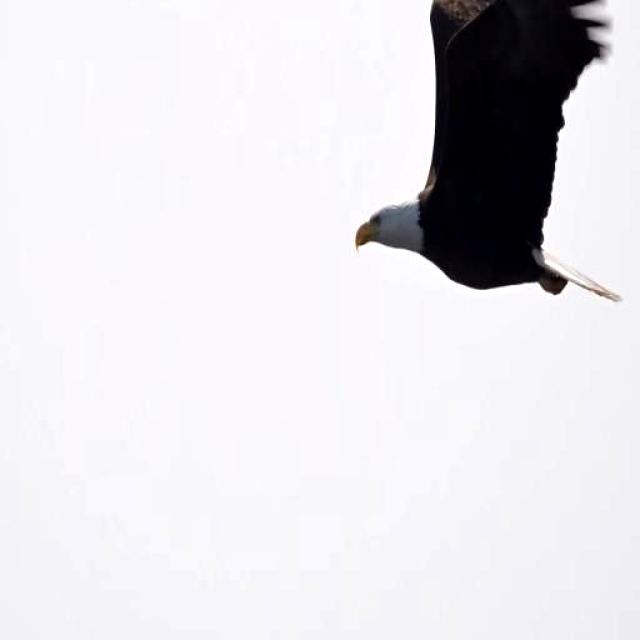airplane: (338, 0, 640, 331)
